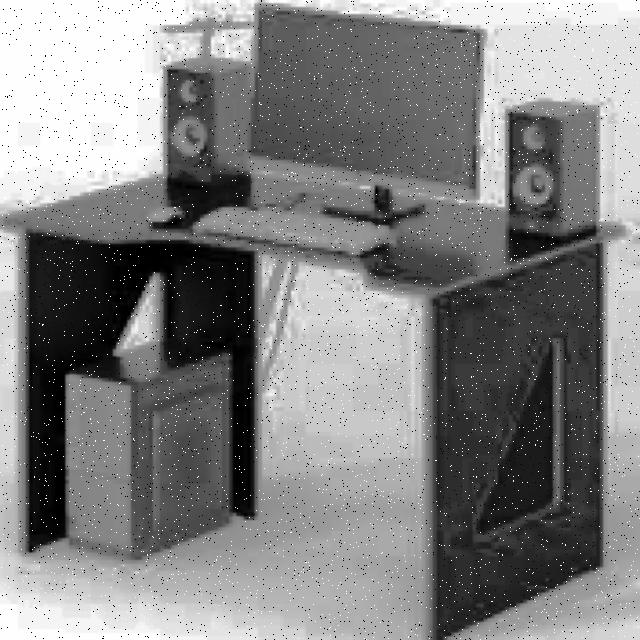table: (0, 171, 626, 640)
